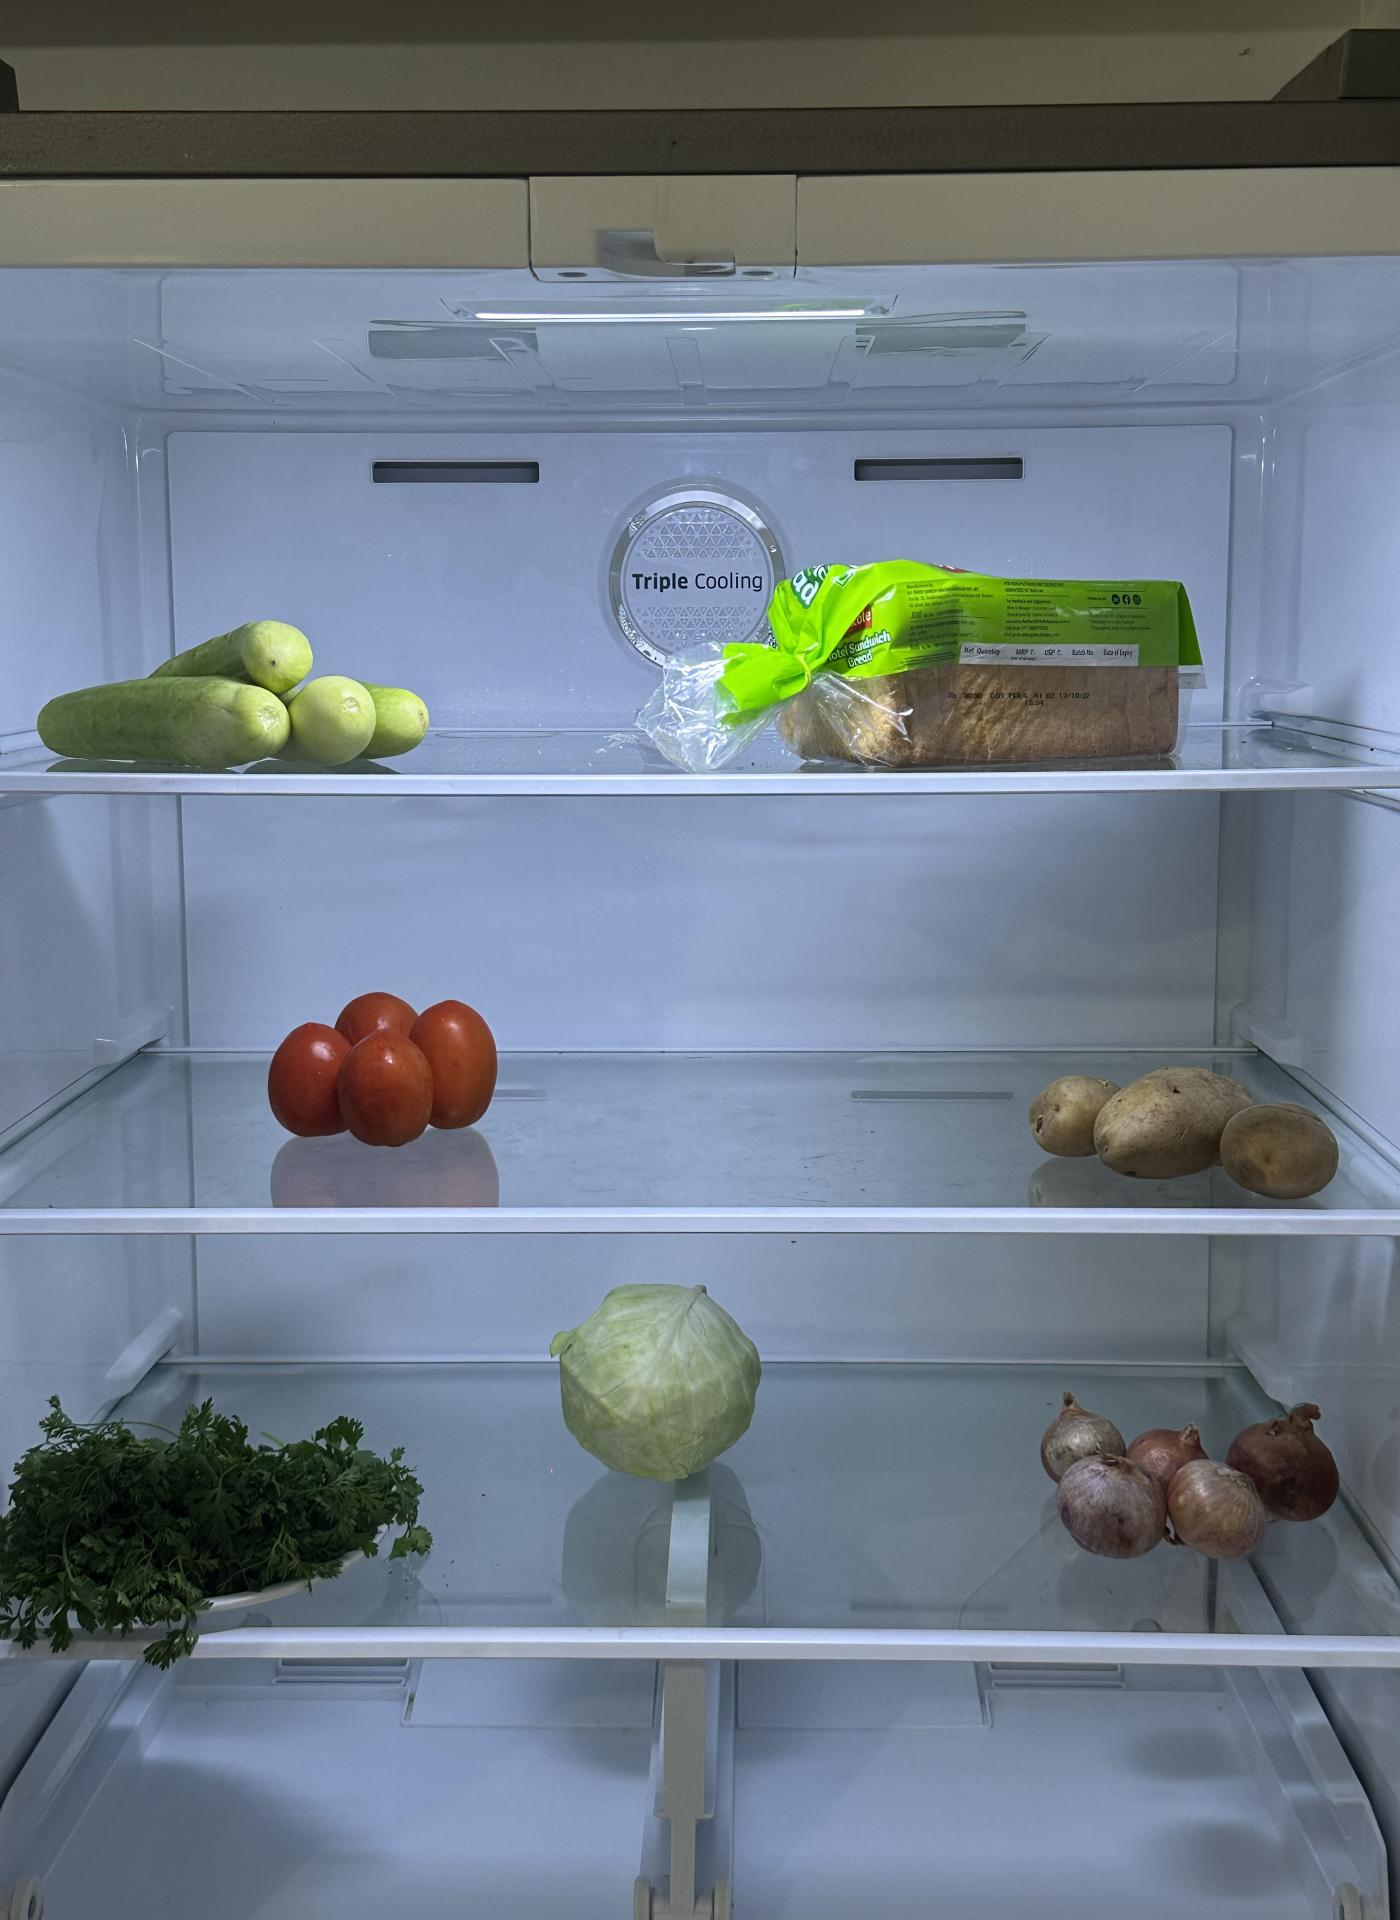bread: (787, 553, 1211, 771)
cabbage: (556, 1276, 762, 1482)
coriander: (0, 1406, 422, 1629)
cucumber: (34, 623, 434, 798)
onion: (1044, 1383, 1352, 1564)
potato: (1024, 1051, 1343, 1194)
tomato: (261, 982, 502, 1152)
